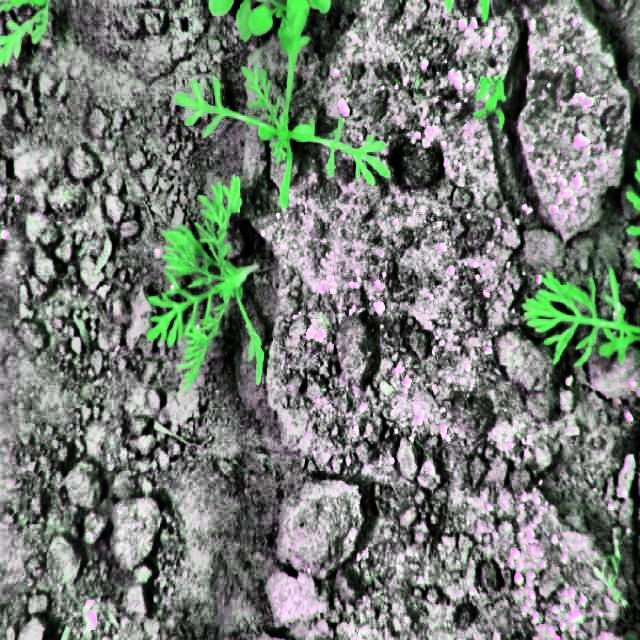Weeds: (196, 0, 356, 59)
undefined: (172, 65, 400, 204), (142, 174, 270, 392), (516, 260, 639, 368), (0, 0, 51, 69), (472, 63, 508, 132)
